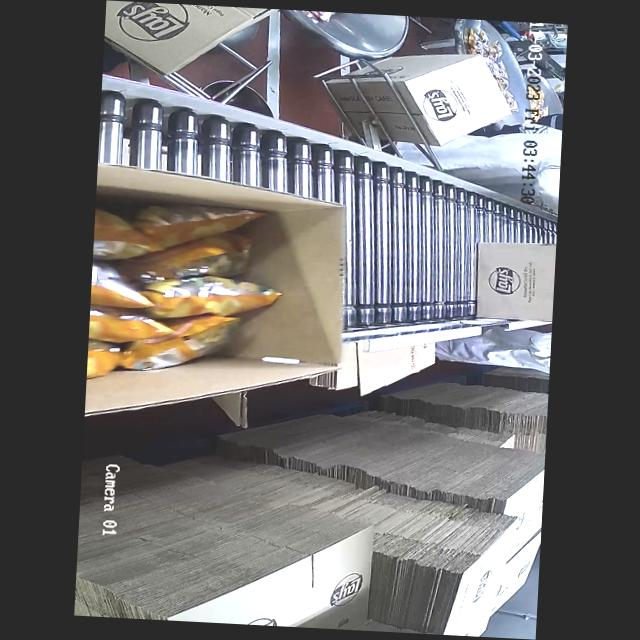cheese: (85, 184, 272, 388)
